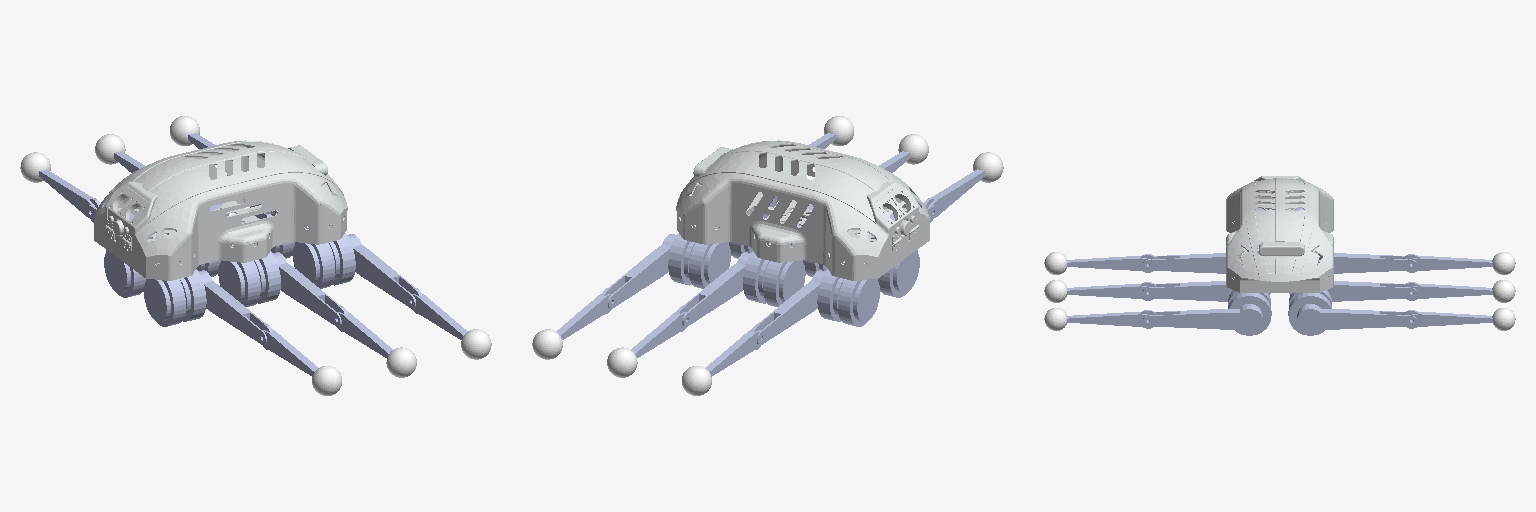
--- What the picture shows (computed from the rendered views, not written in the file) ---
Views: 3 orthographic renders of the robot side by side, from view 1: azimuth 30°, elevation 25°; view 2: azimuth 150°, elevation 25°; view 3: azimuth 270°, elevation 25°.
Model newtwo with 25 links and 24 joints (18 revolute, 6 fixed), rooted at base_link, posed every joint at zero.
Links seen in each view (by area): view 1: base_link, R1_2, R3_2, R2_2, R3_1, R2_1, R1_1, L3_1, R1_3, R2_3, R3_3, L3_3 (+6 smaller); view 2: base_link, L1_2, L3_2, L2_2, L3_1, L2_1, L1_1, R3_1, L1_3, L2_3, L3_3, R3_3 (+6 smaller); view 3: base_link, L1_2, R1_2, L2_2, R2_2, L3_2, R3_2, L2_3, R2_3, L1_3, R1_3, L3_3 (+1 smaller).
Link boxes in pixels (x1,y1,x2,y2): base_link: [94, 140, 347, 280]; R1_2: [329, 233, 415, 308]; R3_2: [180, 269, 272, 344]; R2_2: [254, 251, 347, 326]; R3_1: [144, 262, 185, 326]; R2_1: [218, 222, 260, 306]; R1_1: [293, 226, 334, 288]; L3_1: [104, 212, 152, 297]; R1_3: [409, 288, 467, 339]; R2_3: [335, 306, 392, 357]; R3_3: [260, 324, 317, 376]; L3_3: [39, 169, 100, 222]; base_link: [676, 140, 929, 280]; L1_2: [608, 233, 694, 308]; L3_2: [751, 269, 843, 344]; L2_2: [676, 251, 769, 326]; L3_1: [838, 262, 879, 326]; L2_1: [763, 222, 805, 306]; L1_1: [689, 226, 730, 288]; R3_1: [871, 212, 919, 297]; L1_3: [556, 288, 614, 339]; L2_3: [631, 306, 688, 357]; L3_3: [706, 324, 763, 376]; R3_3: [923, 169, 984, 222]; base_link: [1226, 176, 1333, 292]; L1_2: [1288, 293, 1416, 335]; R1_2: [1143, 293, 1271, 335]; L2_2: [1289, 281, 1416, 301]; R2_2: [1143, 281, 1270, 301]; L3_2: [1334, 253, 1416, 273]; R3_2: [1143, 253, 1225, 273]; L2_3: [1403, 282, 1492, 300]; R2_3: [1067, 282, 1156, 300]; L1_3: [1403, 310, 1492, 328]; R1_3: [1067, 310, 1156, 328]; L3_3: [1403, 254, 1492, 272].
Bounding box of the posed robot: 0.4304 × 1 × 0.2403 m (x, y, z).
25 mesh visuals loaded from 25 distinct referenced files (25 binary STL).

The robot description file, URDF, robot "newtwo":
<?xml version="1.0" encoding="utf-8"?>
<!-- This URDF was automatically created by SolidWorks to URDF Exporter! Originally created by Stephen Brawner ([email redacted]) 
     Commit Version: 1.6.0-4-g7f85cfe  Build Version: 1.6.7995.38578
     For more information, please see http://wiki.ros.org/sw_urdf_exporter -->
<robot
  name="newtwo">
  <link
    name="base_link">
    <inertial>
      <origin
        xyz="0.0021167 8.5198E-05 0.02981"
        rpy="0 0 0" />
      <mass
        value="30.04" />
      <!-- <inertia
        ixx="0.093722"
        ixy="0"
        ixz="0"
        iyy="0.1924"
        iyz="0"
        izz="0.24851" />
    </inertial> -->
      <inertia
        ixx="2"
        ixy="0"
        ixz="0"
        iyy="2"
        iyz="0"
        izz="2" />
    </inertial>
    <visual>
      <origin
        xyz="0 0 0"
        rpy="0 0 0" />
      <geometry>
        <mesh
          filename="package://newtwo/meshes/base_link.STL" />
      </geometry>
      <material
        name="">
        <color
          rgba="0.89804 0.91765 0.92941 1" />
      </material>
    </visual>
    <collision>
      <origin
        xyz="0 0 0"
        rpy="0 0 0" />
      <geometry>
        <mesh
          filename="package://newtwo/meshes/base_link.STL" />
      </geometry>
    </collision>
  </link>
  <link
    name="L1_1">
    <inertial>
      <origin
        xyz="-0.00053881 2.4369E-08 -0.033509"
        rpy="0 0 0" />
      <!-- <mass
        value="0.050791" />
      <inertia
        ixx="5.4974E-05"
        ixy="-5.5372E-12"
        ixz="-1.008E-10"
        iyy="4.3007E-05"
        iyz="-7.5262E-11"
        izz="5.3019E-05" />
    </inertial> -->
            <mass
        value="0.15" />
      <inertia
        ixx="0.15"
        ixy="0.0"
        ixz="0.0"
        iyy="0.15"
        iyz="0.0"
        izz="0.15" />
    </inertial>
    <visual>
      <origin
        xyz="0 0 0"
        rpy="0 0 0" />
      <geometry>
        <mesh
          filename="package://newtwo/meshes/L1_1.STL" />
      </geometry>
      <material
        name="">
        <color
          rgba="0.79216 0.81961 0.93333 1" />
      </material>
    </visual>
    <collision>
      <origin
        xyz="0 0 0"
        rpy="0 0 0" />
      <geometry>
        <mesh
          filename="package://newtwo/meshes/L1_1.STL" />
      </geometry>
    </collision>
  </link>
  <joint
    name="L1_1J"
    type="revolute">
    <origin
      xyz="0.1409 0.065 -0.02125"
      rpy="0 0 0" />
    <parent
      link="base_link" />
    <child
      link="L1_1" />
    <axis
      xyz="0 0 -1" />
    <limit
      lower="-6"
      upper="6"
      effort="100"
      velocity="10" />

           <dynamics
      damping="0.01"
      friction="0.01"
    />

  </joint>
  <link
    name="L1_2">
    <inertial>
      <origin
        xyz="0.053805 0.056399 -1.903E-06"
        rpy="0 0 0" />
      <!-- <mass
        value="0.048771" />
      <inertia
        ixx="0.00029989"
        ixy="-3.6983E-05"
        ixz="1.2493E-09"
        iyy="3.8846E-05"
        iyz="1.0017E-08"
        izz="0.00029741" />
    </inertial> -->
            <mass
        value="0.15" />
      <inertia
        ixx="0.15"
        ixy="0.0"
        ixz="0.0"
        iyy="0.15"
        iyz="0.0"
        izz="0.15" />
    </inertial>
    <visual>
      <origin
        xyz="0 0 0"
        rpy="0 0 0" />
      <geometry>
        <mesh
          filename="package://newtwo/meshes/L1_2.STL" />
      </geometry>
      <material
        name="">
        <color
          rgba="0.79216 0.81961 0.93333 1" />
      </material>
    </visual>
    <collision>
      <origin
        xyz="0 0 0"
        rpy="0 0 0" />
      <geometry>
        <mesh
          filename="package://newtwo/meshes/L1_2.STL" />
      </geometry>
    </collision>
  </link>
  <joint
    name="L1_2J"
    type="revolute">
    <origin
      xyz="0 0 -0.06575"
      rpy="0 0 0" />
    <parent
      link="L1_1" />
    <child
      link="L1_2" />
    <axis
      xyz="1 0 0" />
    <limit
      lower="-6"
      upper="6"
      effort="100"
      velocity="10" />

           <dynamics
      damping="0.01"
      friction="0.01"
    />

  </joint>
  <link
    name="L1_3">
    <inertial>
      <origin
        xyz="-0.002999999999999 0.0622516966511232 -1.11022302462516E-16"
        rpy="0 0 0" />
      <!-- <mass
        value="0.0138735795889189" />
      <inertia
        ixx="4.32018502506037E-05"
        ixy="-4.55469400514642E-21"
        ixz="7.95695145424148E-16"
        iyy="1.49204001297108E-06"
        iyz="1.85061222337895E-20"
        izz="4.24796588963243E-05" />
    </inertial> -->
            <mass
        value="0.15" />
      <inertia
        ixx="0.15"
        ixy="0.0"
        ixz="0.0"
        iyy="0.15"
        iyz="0.0"
        izz="0.15" />
    </inertial>
    <visual>
      <origin
        xyz="0 0 0"
        rpy="0 0 0" />
      <geometry>
        <mesh
          filename="package://newtwo/meshes/L1_3.STL" />
      </geometry>
      <material
        name="">
        <color
          rgba="0.792156862745098 0.819607843137255 0.933333333333333 1" />
      </material>
    </visual>
    <collision>
      <origin
        xyz="0 0 0"
        rpy="0 0 0" />
      <geometry>
        <mesh
          filename="package://newtwo/meshes/L1_3.STL" />
      </geometry>
    </collision>
  </link>
  <joint
    name="L1_3J"
    type="revolute">
    <origin
      xyz="0.07025 0.216 0"
      rpy="0 0 0" />
    <parent
      link="L1_2" />
    <child
      link="L1_3" />
    <axis
      xyz="1 0 0" />
    <limit
      lower="-6"
      upper="6"
      effort="100"
      velocity="10" />
                 <dynamics
      damping="0.01"
      friction="0.01"
    />
  </joint>
  <link
    name="L1_4">
    <inertial>
      <origin
        xyz="0 5.55111512312578E-17 0"
        rpy="0 0 0" />
      <mass
        value="0.01" />
      <inertia
                ixx="0.01"
        ixy="0"
        ixz="0"
        iyy="0.01"
        iyz="0"
        izz="0.01" />
    </inertial>
    <visual>
      <origin
        xyz="0 0 0"
        rpy="0 0 0" />
      <geometry>
        <mesh
          filename="package://newtwo/meshes/L1_4.STL" />
      </geometry>
      <material
        name="">
        <color
          rgba="1 1 1 1" />
      </material>
    </visual>
    <collision>
      <origin
        xyz="0 0 0"
        rpy="0 0 0" />
      <geometry>
        <mesh
          filename="package://newtwo/meshes/L1_4.STL" />
      </geometry>
    </collision>
  </link>
  <joint
    name="L1_4J"
    type="fixed">
    <origin
      xyz="-0.003 0.196 0"
      rpy="0 0 0" />
    <parent
      link="L1_3" />
    <child
      link="L1_4" />
    <axis
      xyz="0 0 0" />
  </joint>
  <link
    name="R1_1">
    <inertial>
      <origin
        xyz="-0.00053881 2.4369E-08 -0.033509"
        rpy="0 0 0" />
      <!-- <mass
        value="0.050791" />
      <inertia
        ixx="5.4974E-05"
        ixy="-5.5372E-12"
        ixz="-1.008E-10"
        iyy="4.3007E-05"
        iyz="-7.5262E-11"
        izz="5.3019E-05" />
    </inertial> -->
            <mass
        value="0.15" />
      <inertia
        ixx="0.15"
        ixy="0.0"
        ixz="0.0"
        iyy="0.15"
        iyz="0.0"
        izz="0.15" />
    </inertial>
    <visual>
      <origin
        xyz="0 0 0"
        rpy="0 0 0" />
      <geometry>
        <mesh
          filename="package://newtwo/meshes/R1_1.STL" />
      </geometry>
      <material
        name="">
        <color
          rgba="0.79216 0.81961 0.93333 1" />
      </material>
    </visual>
    <collision>
      <origin
        xyz="0 0 0"
        rpy="0 0 0" />
      <geometry>
        <mesh
          filename="package://newtwo/meshes/R1_1.STL" />
      </geometry>
    </collision>
  </link>
  <joint
    name="R1_1J"
    type="revolute">
    <origin
      xyz="0.1409 -0.065 -0.02125"
      rpy="0 0 0" />
    <parent
      link="base_link" />
    <child
      link="R1_1" />
    <axis
      xyz="0 0 -1" />
    <limit
      lower="-6"
      upper="6"
      effort="100"
      velocity="10" />
                 <dynamics
      damping="0.01"
      friction="0.01"
    />
  </joint>
  <link
    name="R1_2">
    <inertial>
      <origin
        xyz="0.0538046935377517 -0.0563990041062734 1.90730046431553E-06"
        rpy="0 0 0" />
      <!-- <mass
        value="0.0487708538022157" />
      <inertia
        ixx="0.000299889172144516"
        ixy="3.69830518373728E-05"
        ixz="-1.24927529973815E-09"
        iyy="3.88457597661671E-05"
        iyz="1.00173051764211E-08"
        izz="0.000297413215550296" />
    </inertial> -->
            <mass
        value="0.15" />
      <inertia
        ixx="0.15"
        ixy="0.0"
        ixz="0.0"
        iyy="0.15"
        iyz="0.0"
        izz="0.15" />
    </inertial>
    <visual>
      <origin
        xyz="0 0 0"
        rpy="0 0 0" />
      <geometry>
        <mesh
          filename="package://newtwo/meshes/R1_2.STL" />
      </geometry>
      <material
        name="">
        <color
          rgba="0.792156862745098 0.819607843137255 0.933333333333333 1" />
      </material>
    </visual>
    <collision>
      <origin
        xyz="0 0 0"
        rpy="0 0 0" />
      <geometry>
        <mesh
          filename="package://newtwo/meshes/R1_2.STL" />
      </geometry>
    </collision>
  </link>
  <joint
    name="R1_2J"
    type="revolute">
    <origin
      xyz="0 0 -0.06575"
      rpy="0 0 0" />
    <parent
      link="R1_1" />
    <child
      link="R1_2" />
    <axis
      xyz="1 0 0" />
    <limit
      lower="-6"
      upper="6"
      effort="100"
      velocity="10" />
                 <dynamics
      damping="0.01"
      friction="0.01"
    />
  </joint>
  <link
    name="R1_3">
    <inertial>
      <origin
        xyz="-0.00299999999997458 -0.0622516966511238 0"
        rpy="0 0 0" />
      <!-- <mass
        value="0.0138735795889189" />
      <inertia
        ixx="4.32018502506036E-05"
        ixy="1.63940066433234E-20"
        ixz="-7.95689960581737E-16"
        iyy="1.49204001297108E-06"
        iyz="4.10563851693299E-21"
        izz="4.24796588963242E-05" />
    </inertial> -->
            <mass
        value="0.15" />
      <inertia
        ixx="0.15"
        ixy="0.0"
        ixz="0.0"
        iyy="0.15"
        iyz="0.0"
        izz="0.15" />
    </inertial>
    <visual>
      <origin
        xyz="0 0 0"
        rpy="0 0 0" />
      <geometry>
        <mesh
          filename="package://newtwo/meshes/R1_3.STL" />
      </geometry>
      <material
        name="">
        <color
          rgba="0.792156862745098 0.819607843137255 0.933333333333333 1" />
      </material>
    </visual>
    <collision>
      <origin
        xyz="0 0 0"
        rpy="0 0 0" />
      <geometry>
        <mesh
          filename="package://newtwo/meshes/R1_3.STL" />
      </geometry>
    </collision>
  </link>
  <joint
    name="R1_3J"
    type="revolute">
    <origin
      xyz="0.07025 -0.216 0"
      rpy="0 0 0" />
    <parent
      link="R1_2" />
    <child
      link="R1_3" />
    <axis
      xyz="1 0 0" />
    <limit
      lower="-6"
      upper="6"
      effort="100"
      velocity="10" />
                 <dynamics
      damping="0.01"
      friction="0.01"
    />
  </joint>
  <link
    name="R1_4">
    <inertial>
      <origin
        xyz="0 0 -2.77555756156289E-17"
        rpy="0 0 0" />
      <mass
        value="0.01" />
      <inertia
                ixx="0.01"
        ixy="0"
        ixz="0"
        iyy="0.01"
        iyz="0"
        izz="0.01" />
    </inertial>
    <visual>
      <origin
        xyz="0 0 0"
        rpy="0 0 0" />
      <geometry>
        <mesh
          filename="package://newtwo/meshes/R1_4.STL" />
      </geometry>
      <material
        name="">
        <color
          rgba="1 1 1 1" />
      </material>
    </visual>
    <collision>
      <origin
        xyz="0 0 0"
        rpy="0 0 0" />
      <geometry>
        <mesh
          filename="package://newtwo/meshes/R1_4.STL" />
      </geometry>
    </collision>
  </link>
  <joint
    name="R1_4J"
    type="fixed">
    <origin
      xyz="-0.003 -0.196 0"
      rpy="0 0 0" />
    <parent
      link="R1_3" />
    <child
      link="R1_4" />
    <axis
      xyz="0 0 0" />
  </joint>
  <link
    name="L2_1">
    <inertial>
      <origin
        xyz="-0.00053881 2.4369E-08 -0.033509"
        rpy="0 0 0" />
      <!-- <mass
        value="0.050791" />
      <inertia
        ixx="5.4974E-05"
        ixy="-5.5372E-12"
        ixz="-1.008E-10"
        iyy="4.3007E-05"
        iyz="-7.5262E-11"
        izz="5.3019E-05" />
    </inertial> -->
            <mass
        value="0.15" />
      <inertia
        ixx="0.15"
        ixy="0.0"
        ixz="0.0"
        iyy="0.15"
        iyz="0.0"
        izz="0.15" />
    </inertial>
    <visual>
      <origin
        xyz="0 0 0"
        rpy="0 0 0" />
      <geometry>
        <mesh
          filename="package://newtwo/meshes/L2_1.STL" />
      </geometry>
      <material
        name="">
        <color
          rgba="0.79216 0.81961 0.93333 1" />
      </material>
    </visual>
    <collision>
      <origin
        xyz="0 0 0"
        rpy="0 0 0" />
      <geometry>
        <mesh
          filename="package://newtwo/meshes/L2_1.STL" />
      </geometry>
    </collision>
  </link>
  <joint
    name="L2_1J"
    type="revolute">
    <origin
      xyz="0 0.065 -0.02125"
      rpy="0 0 0" />
    <parent
      link="base_link" />
    <child
      link="L2_1" />
    <axis
      xyz="0 0 -1" />
    <limit
      lower="-6"
      upper="6"
      effort="100"
      velocity="10" />
                 <dynamics
      damping="0.01"
      friction="0.01"
    />
  </joint>
  <link
    name="L2_2">
    <inertial>
      <origin
        xyz="0.0538046922300571 0.0563989886737328 -1.9029785984781E-06"
        rpy="0 0 0" />
      <!-- <mass
        value="0.0487708538022156" />
      <inertia
        ixx="0.00029988917214451"
        ixy="-3.69830518373726E-05"
        ixz="1.24927529976681E-09"
        iyy="3.8845759766167E-05"
        iyz="1.0017305176132E-08"
        izz="0.00029741321555029" />
    </inertial> -->
            <mass
        value="0.15" />
      <inertia
        ixx="0.15"
        ixy="0.0"
        ixz="0.0"
        iyy="0.15"
        iyz="0.0"
        izz="0.15" />
    </inertial>
    <visual>
      <origin
        xyz="0 0 0"
        rpy="0 0 0" />
      <geometry>
        <mesh
          filename="package://newtwo/meshes/L2_2.STL" />
      </geometry>
      <material
        name="">
        <color
          rgba="0.792156862745098 0.819607843137255 0.933333333333333 1" />
      </material>
    </visual>
    <collision>
      <origin
        xyz="0 0 0"
        rpy="0 0 0" />
      <geometry>
        <mesh
          filename="package://newtwo/meshes/L2_2.STL" />
      </geometry>
    </collision>
  </link>
  <joint
    name="L2_2J"
    type="revolute">
    <origin
      xyz="0 0 -0.06575"
      rpy="0 0 0" />
    <parent
      link="L2_1" />
    <child
      link="L2_2" />
    <axis
      xyz="1 0 0" />
    <limit
      lower="-6"
      upper="6"
      effort="100"
      velocity="10" />
                 <dynamics
      damping="0.01"
      friction="0.01"
    />
  </joint>
  <link
    name="L2_3">
    <inertial>
      <origin
        xyz="-0.00299999999999906 0.0622516966511231 -8.32667268468867E-17"
        rpy="0 0 0" />
      <!-- <mass
        value="0.0138735795889189" />
      <inertia
        ixx="4.32018502506036E-05"
        ixy="1.36690036184446E-20"
        ixz="7.95694628348837E-16"
        iyy="1.49204001297108E-06"
        iyz="5.06013189596864E-21"
        izz="4.24796588963242E-05" />
    </inertial> -->
            <mass
        value="0.15" />
      <inertia
        ixx="0.15"
        ixy="0.0"
        ixz="0.0"
        iyy="0.15"
        iyz="0.0"
        izz="0.15" />
    </inertial>
    <visual>
      <origin
        xyz="0 0 0"
        rpy="0 0 0" />
      <geometry>
        <mesh
          filename="package://newtwo/meshes/L2_3.STL" />
      </geometry>
      <material
        name="">
        <color
          rgba="0.792156862745098 0.819607843137255 0.933333333333333 1" />
      </material>
    </visual>
    <collision>
      <origin
        xyz="0 0 0"
        rpy="0 0 0" />
      <geometry>
        <mesh
          filename="package://newtwo/meshes/L2_3.STL" />
      </geometry>
    </collision>
  </link>
  <joint
    name="L2_3J"
    type="revolute">
    <origin
      xyz="0.07025 0.216 0"
      rpy="0 0 0" />
    <parent
      link="L2_2" />
    <child
      link="L2_3" />
    <axis
      xyz="1 0 0" />
    <limit
      lower="-6"
      upper="6"
      effort="100"
      velocity="10" />
                 <dynamics
      damping="0.01"
      friction="0.01"
    />
  </joint>
  <link
    name="L2_4">
    <inertial>
      <origin
        xyz="0 5.55111512312578E-17 0"
        rpy="0 0 0" />
      <mass
        value="0.01" />
      <inertia
                ixx="0.01"
        ixy="0"
        ixz="0"
        iyy="0.01"
        iyz="0"
        izz="0.01" />
    </inertial>
    <visual>
      <origin
        xyz="0 0 0"
        rpy="0 0 0" />
      <geometry>
        <mesh
          filename="package://newtwo/meshes/L2_4.STL" />
      </geometry>
      <material
        name="">
        <color
          rgba="1 1 1 1" />
      </material>
    </visual>
    <collision>
      <origin
        xyz="0 0 0"
        rpy="0 0 0" />
      <geometry>
        <mesh
          filename="package://newtwo/meshes/L2_4.STL" />
      </geometry>
    </collision>
  </link>
  <joint
    name="L2_4J"
    type="fixed">
    <origin
      xyz="-0.003 0.196 0"
      rpy="0 0 0" />
    <parent
      link="L2_3" />
    <child
      link="L2_4" />
    <axis
      xyz="0 0 0" />
  </joint>
  <link
    name="R2_1">
    <inertial>
      <origin
        xyz="-0.00053881 2.4369E-08 -0.033509"
        rpy="0 0 0" />
      <!-- <mass
        value="0.050791" />
      <inertia
        ixx="5.4974E-05"
        ixy="-5.5372E-12"
        ixz="-1.008E-10"
        iyy="4.3007E-05"
        iyz="-7.5262E-11"
        izz="5.3019E-05" />
    </inertial> -->
            <mass
        value="0.15" />
      <inertia
        ixx="0.15"
        ixy="0.0"
        ixz="0.0"
        iyy="0.15"
        iyz="0.0"
        izz="0.15" />
    </inertial>
    <visual>
      <origin
        xyz="0 0 0"
        rpy="0 0 0" />
      <geometry>
        <mesh
          filename="package://newtwo/meshes/R2_1.STL" />
      </geometry>
      <material
        name="">
        <color
          rgba="0.79216 0.81961 0.93333 1" />
      </material>
    </visual>
    <collision>
      <origin
        xyz="0 0 0"
        rpy="0 0 0" />
      <geometry>
        <mesh
          filename="package://newtwo/meshes/R2_1.STL" />
      </geometry>
    </collision>
  </link>
  <joint
    name="R2_1J"
    type="revolute">
    <origin
      xyz="0 -0.065 -0.02125"
      rpy="0 0 0" />
    <parent
      link="base_link" />
    <child
      link="R2_1" />
    <axis
      xyz="0 0 -1" />
    <limit
      lower="-6"
      upper="6"
      effort="100"
      velocity="10" />
                 <dynamics
      damping="0.01"
      friction="0.01"
    />
  </joint>
  <link
    name="R2_2">
    <inertial>
      <origin
        xyz="0.0538046946845857 -0.0563990022332068 1.90730046428778E-06"
        rpy="0 0 0" />
      <!-- <mass
        value="0.0487708538022155" />
      <inertia
        ixx="0.000299889172144509"
        ixy="3.69830518373726E-05"
        ixz="-1.24927529972658E-09"
        iyy="3.8845759766167E-05"
        iyz="1.00173051763647E-08"
        izz="0.000297413215550289" />
    </inertial> -->
            <mass
        value="0.15" />
      <inertia
        ixx="0.15"
        ixy="0.0"
        ixz="0.0"
        iyy="0.15"
        iyz="0.0"
        izz="0.15" />
    </inertial>
    <visual>
      <origin
        xyz="0 0 0"
        rpy="0 0 0" />
      <geometry>
        <mesh
          filename="package://newtwo/meshes/R2_2.STL" />
      </geometry>
      <material
        name="">
        <color
          rgba="0.792156862745098 0.819607843137255 0.933333333333333 1" />
      </material>
    </visual>
    <collision>
      <origin
        xyz="0 0 0"
        rpy="0 0 0" />
      <geometry>
        <mesh
          filename="package://newtwo/meshes/R2_2.STL" />
      </geometry>
    </collision>
  </link>
  <joint
    name="R2_2J"
    type="revolute">
    <origin
      xyz="0 0 -0.06575"
      rpy="0 0 0" />
    <parent
      link="R2_1" />
    <child
      link="R2_2" />
    <axis
      xyz="1 0 0" />
    <limit
      lower="-6"
      upper="6"
      effort="100"
      velocity="10" />
                 <dynamics
      damping="0.01"
      friction="0.01"
    />
  </joint>
  <link
    name="R2_3">
    <inertial>
      <origin
        xyz="0.00300000000002526 -0.0622516966511241 5.55111512312578E-17"
        rpy="0 0 0" />
      <!-- <mass
        value="0.0138735795889188" />
      <inertia
        ixx="4.32018502506033E-05"
        ixy="2.03581739932966E-20"
        ixz="-7.9568995539102E-16"
        iyy="1.49204001297107E-06"
        iyz="1.42314663326026E-20"
        izz="4.24796588963239E-05" />
    </inertial> -->
            <mass
        value="0.15" />
      <inertia
        ixx="0.15"
        ixy="0.0"
        ixz="0.0"
        iyy="0.15"
        iyz="0.0"
        izz="0.15" />
    </inertial>
    <visual>
      <origin
        xyz="0 0 0"
        rpy="0 0 0" />
      <geometry>
        <mesh
          filename="package://newtwo/meshes/R2_3.STL" />
      </geometry>
      <material
        name="">
        <color
          rgba="0.792156862745098 0.819607843137255 0.933333333333333 1" />
      </material>
    </visual>
    <collision>
      <origin
        xyz="0 0 0"
        rpy="0 0 0" />
      <geometry>
        <mesh
          filename="package://newtwo/meshes/R2_3.STL" />
      </geometry>
    </collision>
  </link>
  <joint
    name="R2_3J"
    type="revolute">
    <origin
      xyz="0.06425 -0.216 0"
      rpy="0 0 0" />
    <parent
      link="R2_2" />
    <child
      link="R2_3" />
    <axis
      xyz="1 0 0" />
    <limit
      lower="-6"
      upper="6"
      effort="100"
      velocity="10" />
                 <dynamics
      damping="0.01"
      friction="0.01"
    />
  </joint>
  <link
    name="R2_4">
    <inertial>
      <origin
        xyz="0 0 -2.77555756156289E-17"
        rpy="0 0 0" />
      <mass
        value="0.01" />
      <inertia
                ixx="0.01"
        ixy="0"
        ixz="0"
        iyy="0.01"
        iyz="0"
        izz="0.01" />
    </inertial>
    <visual>
      <origin
        xyz="0 0 0"
        rpy="0 0 0" />
      <geometry>
        <mesh
          filename="package://newtwo/meshes/R2_4.STL" />
      </geometry>
      <material
        name="">
        <color
          rgba="1 1 1 1" />
      </material>
    </visual>
    <collision>
      <origin
        xyz="0 0 0"
        rpy="0 0 0" />
      <geometry>
        <mesh
          filename="package://newtwo/meshes/R2_4.STL" />
      </geometry>
    </collision>
  </link>
  <joint
    name="R2_4J"
    type="fixed">
    <origin
      xyz="0.003 -0.196 0"
      rpy="0 0 0" />
    <parent
      link="R2_3" />
    <child
      link="R2_4" />
    <axis
      xyz="0 0 0" />
  </joint>
  <link
    name="L3_1">
    <inertial>
      <origin
        xyz="-0.00053881 2.4369E-08 -0.033509"
        rpy="0 0 0" />
      <!-- <mass
        value="0.050791" />
      <inertia
        ixx="5.4974E-05"
        ixy="-5.5372E-12"
        ixz="-1.008E-10"
        iyy="4.3007E-05"
        iyz="-7.5262E-11"
        izz="5.3019E-05" />
    </inertial> -->
            <mass
        value="0.15" />
      <inertia
        ixx="0.15"
        ixy="0.0"
        ixz="0.0"
        iyy="0.15"
        iyz="0.0"
        izz="0.15" />
    </inertial>
    <visual>
      <origin
        xyz="0 0 0"
        rpy="0 0 0" />
      <geometry>
        <mesh
          filename="package://newtwo/meshes/L3_1.STL" />
      </geometry>
      <material
        name="">
        <color
          rgba="0.79216 0.81961 0.93333 1" />
      </material>
    </visual>
    <collision>
      <origin
        xyz="0 0 0"
        rpy="0 0 0" />
      <geometry>
        <mesh
          filename="package://newtwo/meshes/L3_1.STL" />
      </geometry>
    </collision>
  </link>
  <joint
    name="L3_1J"
    type="revolute">
    <origin
      xyz="-0.1409 0.065 -0.02125"
      rpy="0 0 0" />
    <parent
      link="base_link" />
    <child
      link="L3_1" />
    <axis
      xyz="0 0 -1" />
    <limit
      lower="-6"
      upper="6"
      effort="100"
      velocity="10" />
                 <dynamics
      damping="0.01"
      friction="0.01"
    />
  </joint>
  <link
    name="L3_2">
    <inertial>
      <origin
        xyz="0.0538046880104125 0.0563989861203904 -1.90297859850586E-06"
        rpy="0 0 0" />
      <!-- <mass
        value="0.0487708538022157" />
      <inertia
        ixx="0.00029988917214451"
        ixy="-3.69830518373724E-05"
        ixz="1.24927529976658E-09"
        iyy="3.88457597661669E-05"
        iyz="1.0017305176145E-08"
        izz="0.00029741321555029" />
    </inertial> -->
            <mass
        value="0.15" />
      <inertia
        ixx="0.15"
        ixy="0.0"
        ixz="0.0"
        iyy="0.15"
        iyz="0.0"
        izz="0.15" />
    </inertial>
    <visual>
      <origin
        xyz="0 0 0"
        rpy="0 0 0" />
      <geometry>
        <mesh
          filename="package://newtwo/meshes/L3_2.STL" />
      </geometry>
      <material
        name="">
        <color
          rgba="0.792156862745098 0.819607843137255 0.933333333333333 1" />
      </material>
    </visual>
    <collision>
      <origin
        xyz="0 0 0"
        rpy="0 0 0" />
      <geometry>
        <mesh
          filename="package://newtwo/meshes/L3_2.STL" />
      </geometry>
    </collision>
  </link>
  <joint
    name="L3_2J"
    type="revolute">
    <origin
      xyz="0 0 -0.06575"
      rpy="0 0 0" />
    <parent
      link="L3_1" />
    <child
      link="L3_2" />
    <axis
      xyz="1 0 0" />
    <limit
      lower="-6"
      upper="6"
      effort="100"
      velocity="10" />
                 <dynamics
      damping="0.01"
      friction="0.01"
    />
  </joint>
  <link
    name="L3_3">
    <inertial>
      <origin
        xyz="0.00300000000000089 0.0622516966511229 -2.77555756156289E-17"
        rpy="0 0 0" />
      <!-- <mass
        value="0.0138735795889188" />
      <inertia
        ixx="4.32018502506034E-05"
        ixy="-4.55735197395866E-21"
        ixz="7.95694843336323E-16"
        iyy="1.49204001297108E-06"
        iyz="1.33949260428333E-20"
        izz="4.24796588963239E-05" />
    </inertial> -->
            <mass
        value="0.15" />
      <inertia
        ixx="0.15"
        ixy="0.0"
        ixz="0.0"
        iyy="0.15"
        iyz="0.0"
        izz="0.15" />
    </inertial>
    <visual>
      <origin
        xyz="0 0 0"
        rpy="0 0 0" />
      <geometry>
        <mesh
          filename="package://newtwo/meshes/L3_3.STL" />
      </geometry>
      <material
        name="">
        <color
          rgba="0.792156862745098 0.819607843137255 0.933333333333333 1" />
      </material>
    </visual>
    <collision>
      <origin
        xyz="0 0 0"
        rpy="0 0 0" />
      <geometry>
        <mesh
          filename="package://newtwo/meshes/L3_3.STL" />
      </geometry>
    </collision>
  </link>
  <joint
    name="L3_3J"
    type="revolute">
    <origin
      xyz="0.06425 0.216 0"
      rpy="0 0 0" />
    <parent
      link="L3_2" />
    <child
      link="L3_3" />
    <axis
      xyz="1 0 0" />
    <limit
      lower="-6"
      upper="6"
      effort="100"
      velocity="10" />
                 <dynamics
      damping="0.01"
      friction="0.01"
    />
  </joint>
  <link
    name="L3_4">
    <inertial>
      <origin
        xyz="0 5.55111512312578E-17 0"
        rpy="0 0 0" />
      <mass
        value="0.01" />
      <inertia
                ixx="0.01"
        ixy="0"
        ixz="0"
        iyy="0.01"
        iyz="0"
        izz="0.01" />
    </inertial>
    <visual>
      <origin
        xyz="0 0 0"
        rpy="0 0 0" />
      <geometry>
        <mesh
          filename="package://newtwo/meshes/L3_4.STL" />
      </geometry>
      <material
        name="">
        <color
          rgba="1 1 1 1" />
      </material>
    </visual>
    <collision>
      <origin
        xyz="0 0 0"
        rpy="0 0 0" />
      <geometry>
        <mesh
          filename="package://newtwo/meshes/L3_4.STL" />
      </geometry>
    </collision>
  </link>
  <joint
    name="L3_4J"
    type="fixed">
    <origin
      xyz="0.003 0.196 0"
      rpy="0 0 0" />
    <parent
      link="L3_3" />
    <child
      link="L3_4" />
    <axis
      xyz="0 0 0" />
  </joint>
  <link
    name="R3_1">
    <inertial>
      <origin
        xyz="-0.00053881 2.4369E-08 -0.033509"
        rpy="0 0 0" />
      <!-- <mass
        value="0.050791" />
      <inertia
        ixx="5.4974E-05"
        ixy="-5.5372E-12"
        ixz="-1.008E-10"
        iyy="4.3007E-05"
        iyz="-7.5262E-11"
        izz="5.3019E-05" />
    </inertial> -->
            <mass
        value="0.15" />
      <inertia
        ixx="0.15"
        ixy="0.0"
        ixz="0.0"
        iyy="0.15"
        iyz="0.0"
        izz="0.15" />
    </inertial>
    <visual>
      <origin
        xyz="0 0 0"
        rpy="0 0 0" />
      <geometry>
        <mesh
          filename="package://newtwo/meshes/R3_1.STL" />
      </geometry>
      <material
        name="">
        <color
          rgba="0.79216 0.81961 0.93333 1" />
      </material>
    </visual>
    <collision>
      <origin
        xyz="0 0 0"
        rpy="0 0 0" />
      <geometry>
        <mesh
          filename="package://newtwo/meshes/R3_1.STL" />
      </geometry>
    </collision>
  </link>
  <joint
    name="R3_1J"
    type="revolute">
    <origin
      xyz="-0.1409 -0.065 -0.02125"
      rpy="0 0 0" />
    <parent
      link="base_link" />
    <child
      link="R3_1" />
    <axis
      xyz="0 0 -1" />
    <limit
      lower="-6"
      upper="6"
      effort="100"
      velocity="10" />
                 <dynamics
      damping="0.01"
      friction="0.01"
    />
  </joint>
  <link
    name="R3_2">
    <inertial>
      <origin
        xyz="0.0538046946845857 -0.0563990022332066 1.90730046426002E-06"
        rpy="0 0 0" />
      <!-- <mass
        value="0.0487708538022156" />
      <inertia
        ixx="0.000299889172144509"
        ixy="3.69830518373724E-05"
        ixz="-1.2492752997421E-09"
        iyy="3.8845759766167E-05"
        iyz="1.00173051763404E-08"
        izz="0.000297413215550289" />
    </inertial> -->
            <mass
        value="0.15" />
      <inertia
        ixx="0.15"
        ixy="0.0"
        ixz="0.0"
        iyy="0.15"
        iyz="0.0"
        izz="0.15" />
    </inertial>
    <visual>
      <origin
        xyz="0 0 0"
        rpy="0 0 0" />
      <geometry>
        <mesh
          filename="package://newtwo/meshes/R3_2.STL" />
      </geometry>
      <material
        name="">
        <color
          rgba="0.792156862745098 0.819607843137255 0.933333333333333 1" />
      </material>
    </visual>
    <collision>
      <origin
        xyz="0 0 0"
        rpy="0 0 0" />
      <geometry>
        <mesh
          filename="package://newtwo/meshes/R3_2.STL" />
      </geometry>
    </collision>
  </link>
  <joint
    name="R3_2J"
    type="revolute">
    <origin
      xyz="0 0 -0.06575"
      rpy="0 0 0" />
    <parent
      link="R3_1" />
    <child
      link="R3_2" />
    <axis
      xyz="1 0 0" />
    <limit
      lower="-6"
      upper="6"
      effort="100"
      velocity="10" />
                 <dynamics
      damping="0.01"
      friction="0.01"
    />
  </joint>
  <link
    name="R3_3">
    <inertial>
      <origin
        xyz="0.00300000000002537 -0.0622516966511242 8.32667268468867E-17"
        rpy="0 0 0" />
      <!-- <mass
        value="0.0138735795889188" />
      <inertia
        ixx="4.32018502506033E-05"
        ixy="1.62586269531289E-20"
        ixz="-7.95690761766413E-16"
        iyy="1.49204001297108E-06"
        iyz="1.32690673823778E-20"
        izz="4.24796588963239E-05" />
    </inertial> -->
            <mass
        value="0.15" />
      <inertia
        ixx="0.15"
        ixy="0.0"
        ixz="0.0"
        iyy="0.15"
        iyz="0.0"
        izz="0.15" />
    </inertial>
    <visual>
      <origin
        xyz="0 0 0"
        rpy="0 0 0" />
      <geometry>
        <mesh
          filename="package://newtwo/meshes/R3_3.STL" />
      </geometry>
      <material
        name="">
        <color
          rgba="0.792156862745098 0.819607843137255 0.933333333333333 1" />
      </material>
    </visual>
    <collision>
      <origin
        xyz="0 0 0"
        rpy="0 0 0" />
      <geometry>
        <mesh
          filename="package://newtwo/meshes/R3_3.STL" />
      </geometry>
    </collision>
  </link>
  <joint
    name="R3_3J"
    type="revolute">
    <origin
      xyz="0.06425 -0.216 0"
      rpy="0 0 0" />
    <parent
      link="R3_2" />
    <child
      link="R3_3" />
    <axis
      xyz="1 0 0" />
    <limit
      lower="-6"
      upper="6"
      effort="100"
      velocity="10" />
                 <dynamics
      damping="0.01"
      friction="0.01"
    />
  </joint>
  <link
    name="R3_4">
    <inertial>
      <origin
        xyz="0 -5.55111512312578E-17 0"
        rpy="0 0 0" />
      <!-- <mass
        value="0.00754401115882028" /> -->
            <mass
        value="0.01" />
      <inertia
                ixx="0.01"
        ixy="0"
        ixz="0"
        iyy="0.01"
        iyz="0"
        izz="0.01" />
    </inertial>
    <visual>
      <origin
        xyz="0 0 0"
        rpy="0 0 0" />
      <geometry>
        <mesh
          filename="package://newtwo/meshes/R3_4.STL" />
      </geometry>
      <material
        name="">
        <color
          rgba="1 1 1 1" />
      </material>
    </visual>
    <collision>
      <origin
        xyz="0 0 0"
        rpy="0 0 0" />
      <geometry>
        <mesh
          filename="package://newtwo/meshes/R3_4.STL" />
      </geometry>
    </collision>
  </link>
  <joint
    name="R3_4J"
    type="fixed">
    <origin
      xyz="0.003 -0.196 0"
      rpy="0 0 0" />
    <parent
      link="R3_3" />
    <child
      link="R3_4" />
    <axis
      xyz="0 0 0" />
  </joint>


<transmission name="trans_L1_1_joint">
        <type>transmission_interface/SimpleTransmission</type>
        <joint name="L1_1J">
            <hardwareInterface>hardware_interface/EffortJointInterface</hardwareInterface>
        </joint>
        <actuator name="L1_1_joint_motor">
            <hardwareInterface>hardware_interface/EffortJointInterface</hardwareInterface>
            <mechanicalReduction>1</mechanicalReduction>
        </actuator>
    </transmission>

<transmission name="trans_L1_2_joint">
        <type>transmission_interface/SimpleTransmission</type>
        <joint name="L1_2J">
            <hardwareInterface>hardware_interface/EffortJointInterface</hardwareInterface>
        </joint>
        <actuator name="L1_2_joint_motor">
            <hardwareInterface>hardware_interface/EffortJointInterface</hardwareInterface>
            <mechanicalReduction>1</mechanicalReduction>
        </actuator>
    </transmission>

<transmission name="trans_L1_3_joint">
        <type>transmission_interface/SimpleTransmission</type>
        <joint name="L1_3J">
            <hardwareInterface>hardware_interface/EffortJointInterface</hardwareInterface>
        </joint>
        <actuator name="L1_3_joint_motor">
            <hardwareInterface>hardware_interface/EffortJointInterface</hardwareInterface>
            <mechanicalReduction>1</mechanicalReduction>
        </actuator>
    </transmission>

<transmission name="trans_L2_1_joint">
        <type>transmission_interface/SimpleTransmission</type>
        <joint name="L2_1J">
            <hardwareInterface>hardware_interface/EffortJointInterface</hardwareInterface>
        </joint>
        <actuator name="L2_1_joint_motor">
            <hardwareInterface>hardware_interface/EffortJointInterface</hardwareInterface>
            <mechanicalReduction>1</mechanicalReduction>
        </actuator>
    </transmission>

<transmission name="trans_L2_2_joint">
        <type>transmission_interface/SimpleTransmission</type>
        <joint name="L2_2J">
            <hardwareInterface>hardware_interface/EffortJointInterface</hardwareInterface>
        </joint>
        <actuator name="L2_2_joint_motor">
            <hardwareInterface>hardware_interface/EffortJointInterface</hardwareInterface>
            <mechanicalReduction>1</mechanicalReduction>
        </actuator>
    </transmission>

  <transmission name="trans_L2_3_joint">
        <type>transmission_interface/SimpleTransmission</type>
        <joint name="L2_3J">
            <hardwareInterface>hardware_interface/EffortJointInterface</hardwareInterface>
        </joint>
        <actuator name="L2_3_joint_motor">
            <hardwareInterface>hardware_interface/EffortJointInterface</hardwareInterface>
            <mechanicalReduction>1</mechanicalReduction>
        </actuator>
    </transmission>

  <transmission name="trans_L3_1_joint">
        <type>transmission_interface/SimpleTransmission</type>
        <joint name="L3_1J">
            <hardwareInterface>hardware_interface/EffortJointInterface</hardwareInterface>
        </joint>
        <actuator name="L3_1_joint_motor">
            <hardwareInterface>hardware_interface/EffortJointInterface</hardwareInterface>
            <mechanicalReduction>1</mechanicalReduction>
        </actuator>
    </transmission>

  <transmission name="trans_L3_2_joint">
        <type>transmission_interface/SimpleTransmission</type>
        <joint name="L3_2J">
            <hardwareInterface>hardware_interface/EffortJointInterface</hardwareInterface>
        </joint>
        <actuator name="L3_2_joint_motor">
            <hardwareInterface>hardware_interface/EffortJointInterface</hardwareInterface>
            <mechanicalReduction>1</mechanicalReduction>
        </actuator>
    </transmission>

  <transmission name="trans_L3_3_joint">
        <type>transmission_interface/SimpleTransmission</type>
        <joint name="L3_3J">
            <hardwareInterface>hardware_interface/EffortJointInterface</hardwareInterface>
        </joint>
        <actuator name="L3_3_joint_motor">
            <hardwareInterface>hardware_interface/EffortJointInterface</hardwareInterface>
            <mechanicalReduction>1</mechanicalReduction>
        </actuator>
    </transmission>
<transmission name="trans_R1_1_joint">
        <type>transmission_interface/SimpleTransmission</type>
        <joint name="R1_1J">
            <hardwareInterface>hardware_interface/EffortJointInterface</hardwareInterface>
        </joint>
        <actuator name="R1_1_joint_motor">
            <hardwareInterface>hardware_interface/EffortJointInterface</hardwareInterface>
            <mechanicalReduction>1</mechanicalReduction>
        </actuator>
    </transmission>

<transmission name="trans_R1_2_joint">
        <type>transmission_interface/SimpleTransmission</type>
        <joint name="R1_2J">
            <hardwareInterface>hardware_interface/EffortJointInterface</hardwareInterface>
        </joint>
        <actuator name="R1_2_joint_motor">
            <hardwareInterface>hardware_interface/EffortJointInterface</hardwareInterface>
            <mechanicalReduction>1</mechanicalReduction>
        </actuator>
    </transmission>

<transmission name="trans_R1_3_joint">
        <type>transmission_interface/SimpleTransmission</type>
        <joint name="R1_3J">
            <hardwareInterface>hardware_interface/EffortJointInterface</hardwareInterface>
        </joint>
        <actuator name="R1_3_joint_motor">
            <hardwareInterface>hardware_interface/EffortJointInterface</hardwareInterface>
            <mechanicalReduction>1</mechanicalReduction>
        </actuator>
    </transmission>

<transmission name="trans_R2_1_joint">
        <type>transmission_interface/SimpleTransmission</type>
        <joint name="R2_1J">
            <hardwareInterface>hardware_interface/EffortJointInterface</hardwareInterface>
        </joint>
        <actuator name="R2_1_joint_motor">
            <hardwareInterface>hardware_interface/EffortJointInterface</hardwareInterface>
            <mechanicalReduction>1</mechanicalReduction>
        </actuator>
    </transmission>

<transmission name="trans_R2_2_joint">
        <type>transmission_interface/SimpleTransmission</type>
        <joint name="R2_2J">
            <hardwareInterface>hardware_interface/EffortJointInterface</hardwareInterface>
        </joint>
        <actuator name="R2_2_joint_motor">
            <hardwareInterface>hardware_interface/EffortJointInterface</hardwareInterface>
            <mechanicalReduction>1</mechanicalReduction>
        </actuator>
    </transmission>

  <transmission name="trans_R2_3_joint">
        <type>transmission_interface/SimpleTransmission</type>
        <joint name="R2_3J">
            <hardwareInterface>hardware_interface/EffortJointInterface</hardwareInterface>
        </joint>
        <actuator name="R2_3_joint_motor">
            <hardwareInterface>hardware_interface/EffortJointInterface</hardwareInterface>
            <mechanicalReduction>1</mechanicalReduction>
        </actuator>
    </transmission>

  <transmission name="trans_R3_1_joint">
        <type>transmission_interface/SimpleTransmission</type>
        <joint name="R3_1J">
            <hardwareInterface>hardware_interface/EffortJointInterface</hardwareInterface>
        </joint>
        <actuator name="R3_1_joint_motor">
            <hardwareInterface>hardware_interface/EffortJointInterface</hardwareInterface>
            <mechanicalReduction>1</mechanicalReduction>
        </actuator>
    </transmission>

  <transmission name="trans_R3_2_joint">
        <type>transmission_interface/SimpleTransmission</type>
        <joint name="R3_2J">
            <hardwareInterface>hardware_interface/EffortJointInterface</hardwareInterface>
        </joint>
        <actuator name="R3_2_joint_motor">
            <hardwareInterface>hardware_interface/EffortJointInterface</hardwareInterface>
            <mechanicalReduction>1</mechanicalReduction>
        </actuator>
    </transmission>

  <transmission name="trans_R3_3_joint">
        <type>transmission_interface/SimpleTransmission</type>
        <joint name="R3_3J">
            <hardwareInterface>hardware_interface/EffortJointInterface</hardwareInterface>
        </joint>
        <actuator name="R3_3_joint_motor">
            <hardwareInterface>hardware_interface/EffortJointInterface</hardwareInterface>
            <mechanicalReduction>1</mechanicalReduction>
        </actuator>
    </transmission>
    
 <gazebo reference="L1_4J">
    <provideFeedback>true</provideFeedback>
    <disableFixedJointLumping>true</disableFixedJointLumping>
 </gazebo>
 <gazebo reference="L2_4J">
    <provideFeedback>true</provideFeedback>
    <disableFixedJointLumping>true</disableFixedJointLumping>
 </gazebo>
 <gazebo reference="L3_4J">
    <provideFeedback>true</provideFeedback>
    <disableFixedJointLumping>true</disableFixedJointLumping>
 </gazebo>
 <gazebo reference="R1_4J">
    <provideFeedback>true</provideFeedback>
    <disableFixedJointLumping>true</disableFixedJointLumping>
 </gazebo>
 <gazebo reference="R2_4J">
    <provideFeedback>true</provideFeedback>
    <disableFixedJointLumping>true</disableFixedJointLumping>
 </gazebo>
 <gazebo reference="R3_4J">
    <provideFeedback>true</provideFeedback>
    <disableFixedJointLumping>true</disableFixedJointLumping>
 </gazebo>

  <gazebo>
    <plugin name="L1_4J_ft_sensor" filename="libgazebo_ros_ft_sensor.so">
        <updateRate>500.0</updateRate>
        <topicName>L1_4J_ft</topicName>
        <jointName>L1_4J</jointName>
    </plugin>
    <plugin name="L2_4J_ft_sensor" filename="libgazebo_ros_ft_sensor.so">
        <updateRate>500.0</updateRate>
        <topicName>L2_4J_ft</topicName>
        <jointName>L2_4J</jointName>
    </plugin>
    <plugin name="L3_4J_ft_sensor" filename="libgazebo_ros_ft_sensor.so">
        <updateRate>500.0</updateRate>
        <topicName>L3_4J_ft</topicName>
        <jointName>L3_4J</jointName>
    </plugin>
    <plugin name="R1_4J_ft_sensor" filename="libgazebo_ros_ft_sensor.so">
        <updateRate>500.0</updateRate>
        <topicName>R1_4J_ft</topicName>
        <jointName>R1_4J</jointName>
    </plugin>
    <plugin name="R2_4J_ft_sensor" filename="libgazebo_ros_ft_sensor.so">
        <updateRate>500.0</updateRate>
        <topicName>R2_4J_ft</topicName>
        <jointName>R2_4J</jointName>
    </plugin>
    <plugin name="R3_4J_ft_sensor" filename="libgazebo_ros_ft_sensor.so">
        <updateRate>500.0</updateRate>
        <topicName>R3_4J_ft</topicName>
        <jointName>R3_4J</jointName>
    </plugin>
   </gazebo>

<!-- xzb230512 设置gazebo中足端连杆属性 -->
    <gazebo reference="R1_4">
    <material>Gazebo/Black</material>
    <collision>
      <surface>
        <bounce>
          <restitution_coefficient>0</restitution_coefficient>
          <threshold>1e+06</threshold>
        </bounce>
        <friction>
          <torsional>
            <coefficient>0.3</coefficient>
          </torsional>
          <ode>
            <mu>100.0</mu>
            <mu2>50.0</mu2>
          </ode>
          <bullet>
            <rolling_friction>0.3</rolling_friction>
            <friction2>50.0</friction2>
          </bullet>
        </friction>
        <contact>
          <bullet>
            <kp>30000.0</kp>
            <kd>1000.0</kd>
          </bullet>
          <ode>
            <kp>30000.0</kp>
            <kd>1000.0</kd>
          </ode>
        </contact>
      </surface>
    </collision>
  </gazebo>
      <gazebo reference="R2_4">
    <material>Gazebo/Black</material>
    <collision>
      <surface>
        <bounce>
          <restitution_coefficient>0</restitution_coefficient>
          <threshold>1e+06</threshold>
        </bounce>
        <friction>
          <torsional>
            <coefficient>0.3</coefficient>
          </torsional>
          <ode>
            <mu>100.0</mu>
            <mu2>50.0</mu2>
          </ode>
          <bullet>
            <rolling_friction>0.3</rolling_friction>
            <friction2>50.0</friction2>
          </bullet>
        </friction>
        <contact>
          <bullet>
            <kp>30000.0</kp>
            <kd>1000.0</kd>
          </bullet>
          <ode>
            <kp>30000.0</kp>
            <kd>1000.0</kd>
          </ode>
        </contact>
      </surface>
    </collision>
  </gazebo>
    <gazebo reference="R3_4">
    <material>Gazebo/Black</material>
    <collision>
      <surface>
        <bounce>
          <restitution_coefficient>0</restitution_coefficient>
          <threshold>1e+06</threshold>
        </bounce>
        <friction>
          <torsional>
            <coefficient>0.3</coefficient>
          </torsional>
          <ode>
            <mu>100.0</mu>
            <mu2>50.0</mu2>
          </ode>
          <bullet>
            <rolling_friction>0.3</rolling_friction>
            <friction2>50.0</friction2>
          </bullet>
        </friction>
        <contact>
          <bullet>
            <kp>30000.0</kp>
            <kd>1000.0</kd>
          </bullet>
          <ode>
            <kp>30000.0</kp>
            <kd>1000.0</kd>
          </ode>
        </contact>
      </surface>
    </collision>
  </gazebo>
      <gazebo reference="L1_4">
    <material>Gazebo/Black</material>
    <collision>
      <surface>
        <bounce>
          <restitution_coefficient>0</restitution_coefficient>
          <threshold>1e+06</threshold>
        </bounce>
        <friction>
          <torsional>
            <coefficient>0.3</coefficient>
          </torsional>
          <ode>
            <mu>100.0</mu>
            <mu2>50.0</mu2>
          </ode>
          <bullet>
            <rolling_friction>0.3</rolling_friction>
            <friction2>50.0</friction2>
          </bullet>
        </friction>
        <contact>
          <bullet>
            <kp>30000.0</kp>
            <kd>1000.0</kd>
          </bullet>
          <ode>
            <kp>30000.0</kp>
            <kd>1000.0</kd>
          </ode>
        </contact>
      </surface>
    </collision>
  </gazebo>
  <gazebo reference="L2_4">
    <material>Gazebo/Black</material>
    <collision>
      <surface>
        <bounce>
          <restitution_coefficient>0</restitution_coefficient>
          <threshold>1e+06</threshold>
        </bounce>
        <friction>
          <torsional>
            <coefficient>0.3</coefficient>
          </torsional>
          <ode>
            <mu>100.0</mu>
            <mu2>50.0</mu2>
          </ode>
          <bullet>
            <rolling_friction>0.3</rolling_friction>
            <friction2>50.0</friction2>
          </bullet>
        </friction>
        <contact>
          <bullet>
            <kp>30000.0</kp>
            <kd>1000.0</kd>
          </bullet>
          <ode>
            <kp>30000.0</kp>
            <kd>1000.0</kd>
          </ode>
        </contact>
      </surface>
    </collision>
  </gazebo>
  <gazebo reference="L3_4">
    <material>Gazebo/Black</material>
    <collision>
      <surface>
        <bounce>
          <restitution_coefficient>0</restitution_coefficient>
          <threshold>1e+06</threshold>
        </bounce>
        <friction>
          <torsional>
            <coefficient>0.3</coefficient>
          </torsional>
          <ode>
            <mu>100.0</mu>
            <mu2>50.0</mu2>
          </ode>
          <bullet>
            <rolling_friction>0.3</rolling_friction>
            <friction2>50.0</friction2>
          </bullet>
        </friction>
        <contact>
          <bullet>
            <kp>30000.0</kp>
            <kd>1000.0</kd>
          </bullet>
          <ode>
            <kp>30000.0</kp>
            <kd>1000.0</kd>
          </ode>
        </contact>
      </surface>
    </collision>
  </gazebo>  

  <!-- fix the model  -->
  <!-- <link name="world"/>
  <joint name="fix" type="fixed">
  <origin xyz="0 0 0.5" rpy="0 0 0"/>
  <parent link="world"/>
  <child link="base_link"/>
  </joint> -->

  <!-- lcc 20230426 -->
  <gazebo>
    <plugin name="imu_plugin" filename="libgazebo_ros_imu.so">
  	  <alwaysOn>true</alwaysOn>
    	<bodyName>base_link</bodyName>
    	<topicName>imu</topicName>
    	<serviceName>imu_service</serviceName>
    	<gaussianNoise>0.0</gaussianNoise>
      <xyzOffset>0 0 0</xyzOffset>
      <rpyOffset>0 0 0</rpyOffset>
      <frameName>base_link</frameName>
    	<updateRate>500.0</updateRate>
    </plugin>

    <plugin name="POS_COM" filename="libgazebo_ros_p3d.so">
      <alwaysOn>true</alwaysOn>
      <updateRate>500.0</updateRate>
      <bodyName>base_link</bodyName>
      <topicName>POS_COM</topicName>
      <gaussianNoise>0.0</gaussianNoise>
      <frameName>map</frameName>
      <xyzOffsets>0 0 0</xyzOffsets>
      <rpyOffsets>0 0 0</rpyOffsets>
    </plugin>
  </gazebo>

  <gazebo>
        <plugin name="gazebo_ros_control" filename="libgazebo_ros_control.so">
            <robotNamespace>/newtwo</robotNamespace>
            <robotSimType>gazebo_ros_control/DefaultRobotHWSim</robotSimType>
        </plugin>
  </gazebo>

</robot>
